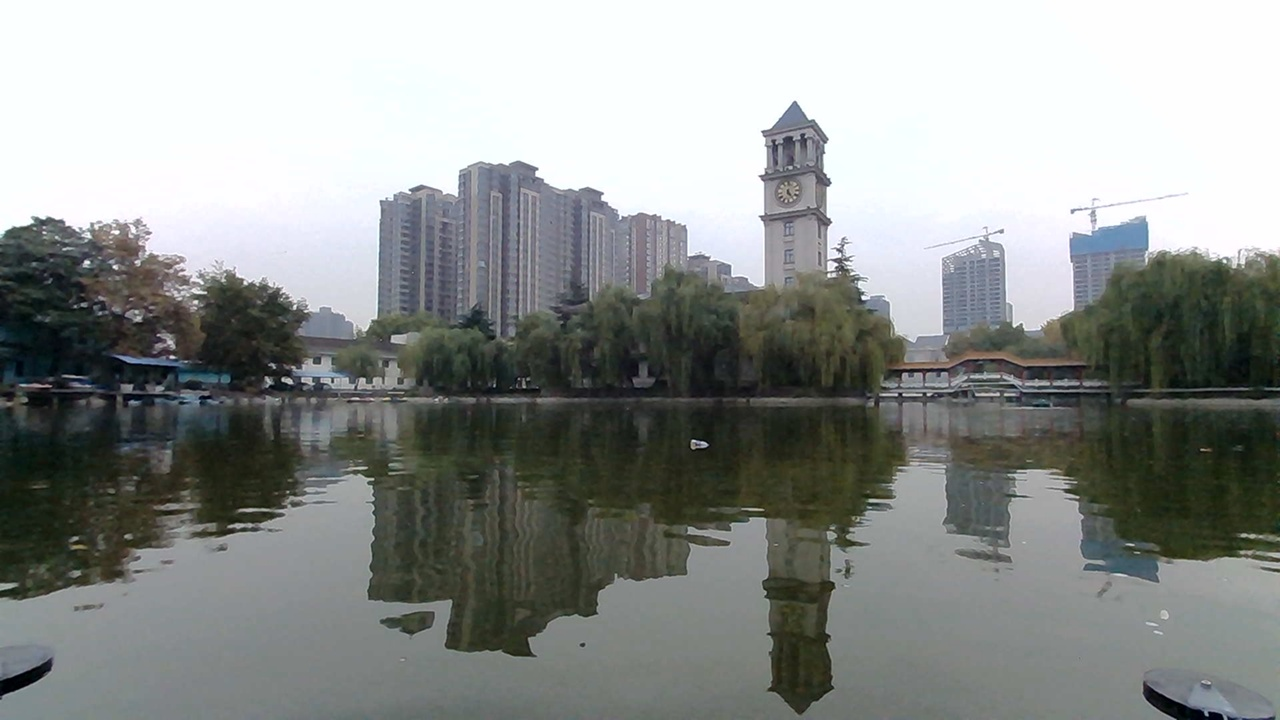bottle: (684, 426, 723, 456)
